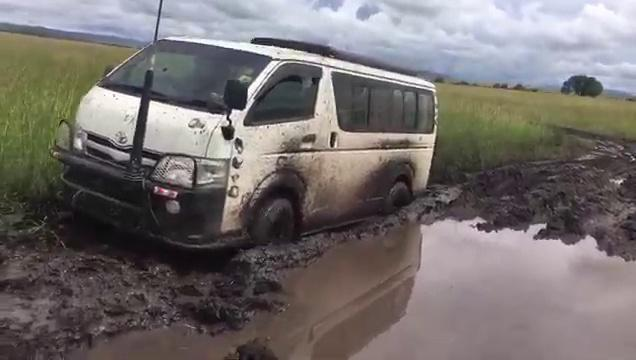Van: (54, 31, 441, 243)
